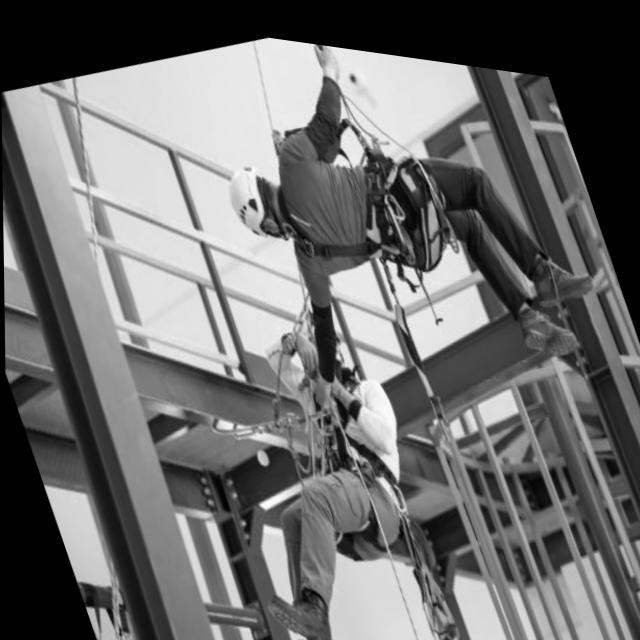belt: (280, 347, 438, 570), (269, 121, 412, 281)
